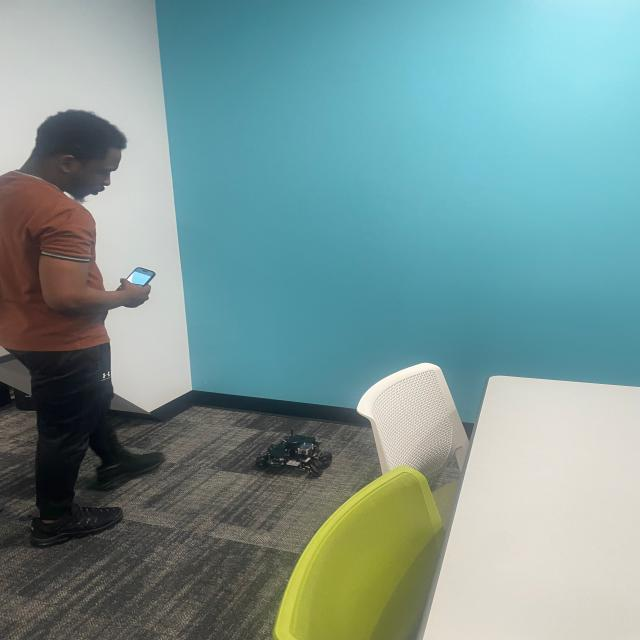ArduinoCar3: (252, 424, 331, 479)
